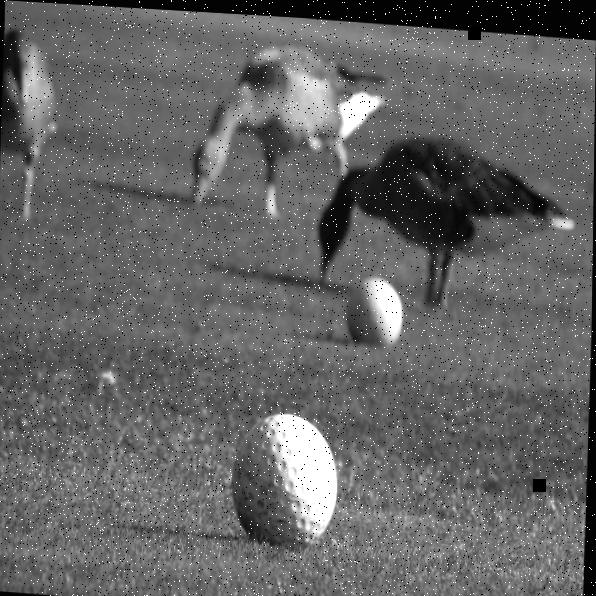GolfBall: (216, 400, 358, 553), (340, 264, 417, 351)
